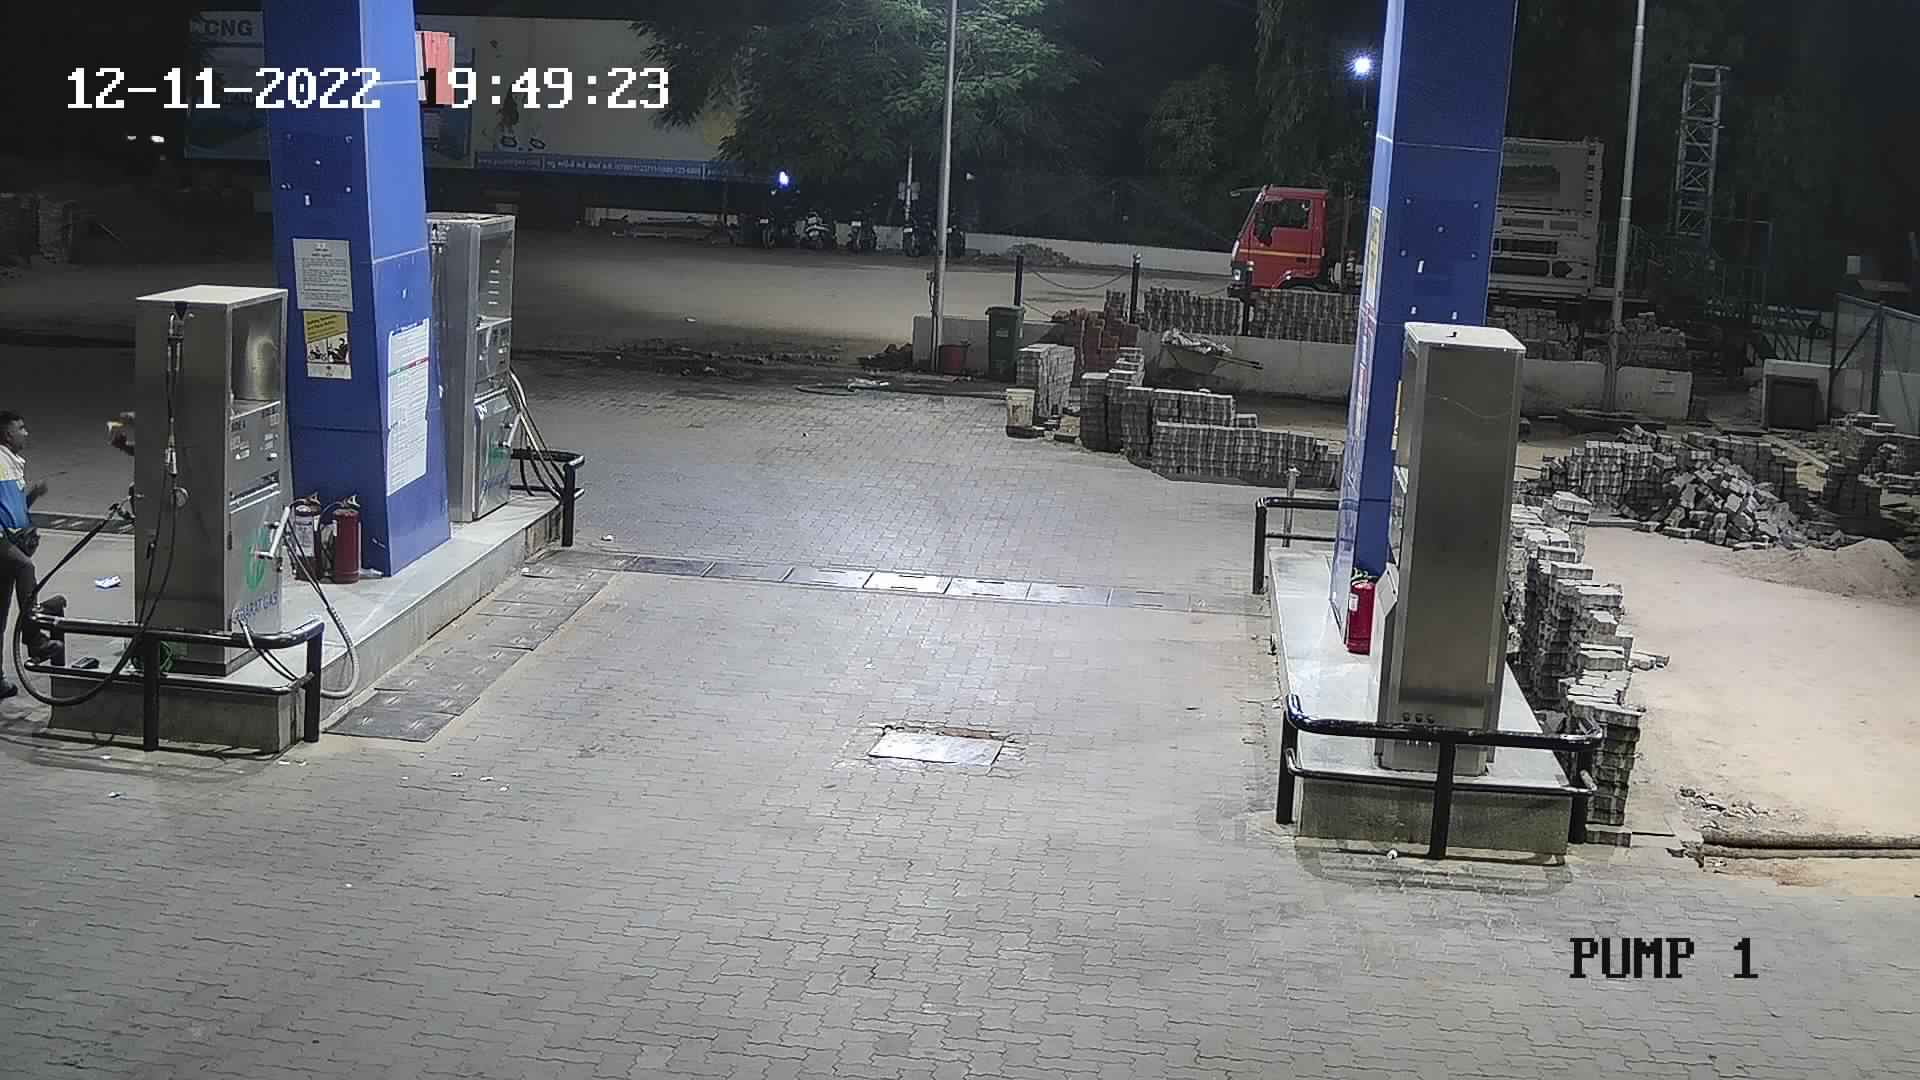Bike: (889, 187, 944, 260), (793, 185, 844, 260), (748, 187, 804, 255), (840, 189, 891, 258)
HMV: (1217, 158, 1375, 330)
Others: (3, 392, 74, 713)
